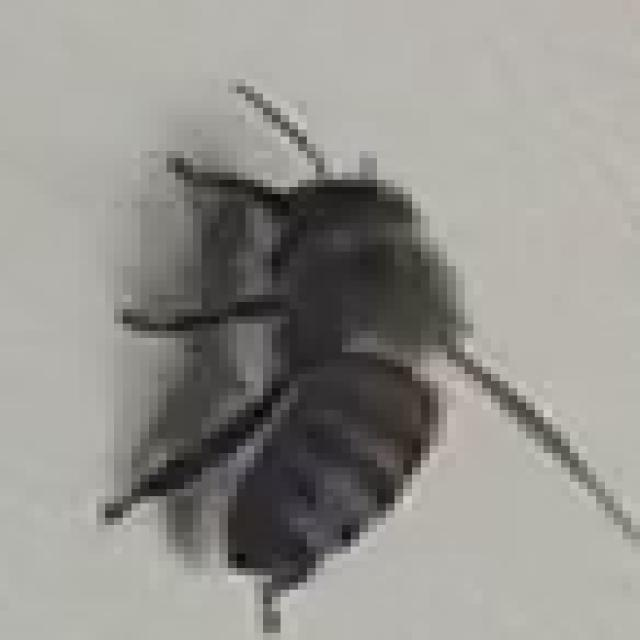honeybee: (120, 97, 535, 596)
